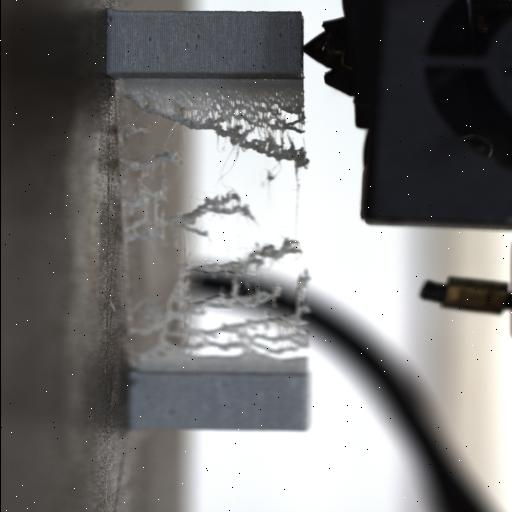stringing: (122, 242, 310, 374), (118, 85, 306, 173), (116, 185, 261, 239)
